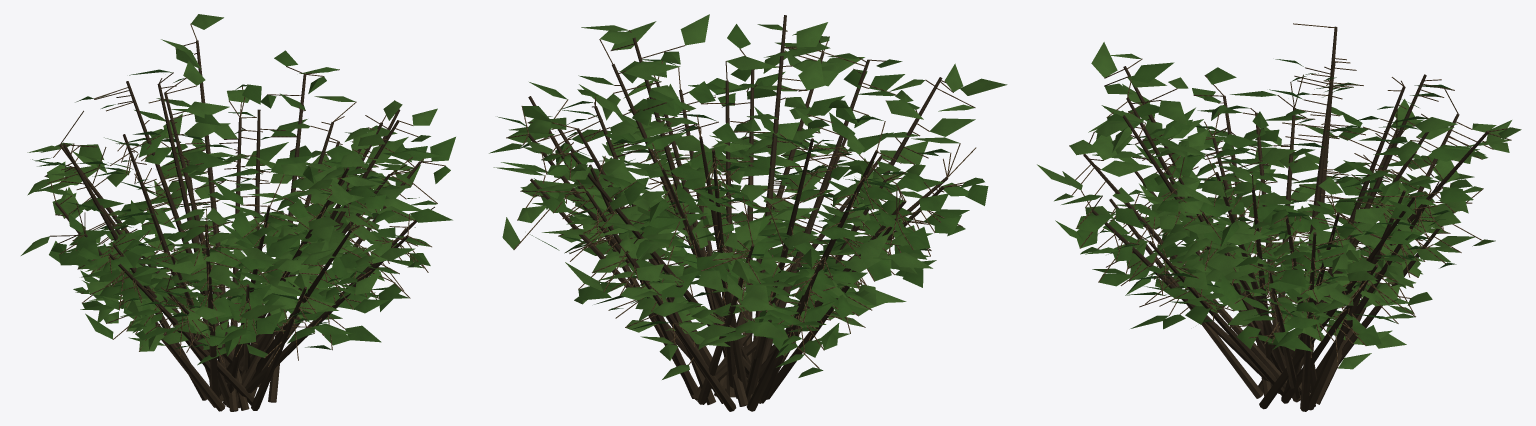
File: level_camp_shrub_decorative_b_refined.glb
3 renders of one model, left to right at view 1: azimuth 30°, elevation 25°; view 2: azimuth 150°, elevation 25°; view 3: azimuth 270°, elevation 25°, orthographic. The views are drawn at different scales.
Parts seen in each view (by area): view 1: level_camp_shrub_decorative_b_refined; view 2: level_camp_shrub_decorative_b_refined; view 3: level_camp_shrub_decorative_b_refined.
Part boxes in pixels (x1,y1,x2,y2): level_camp_shrub_decorative_b_refined: (21,14,455,411); level_camp_shrub_decorative_b_refined: (489,14,1007,411); level_camp_shrub_decorative_b_refined: (1037,23,1521,411).
Size of the model in its own units: 2.7 by 1.88 by 2.64.
5 materials, 5 textured.
